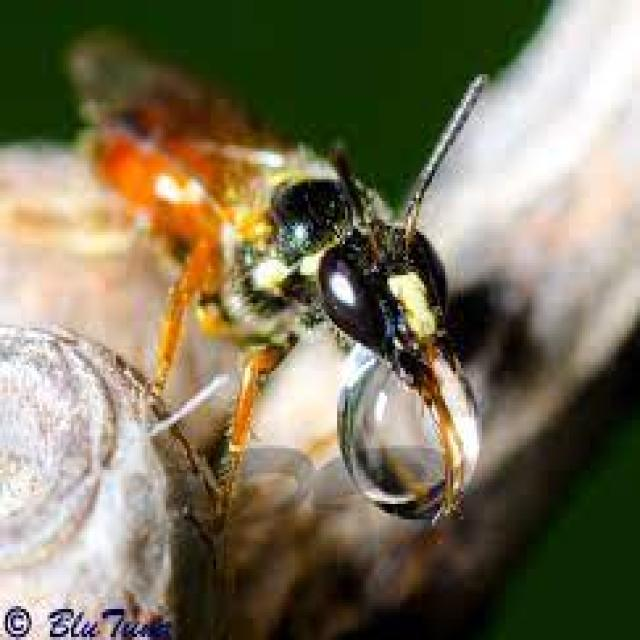Allodapula: (53, 17, 526, 531)
